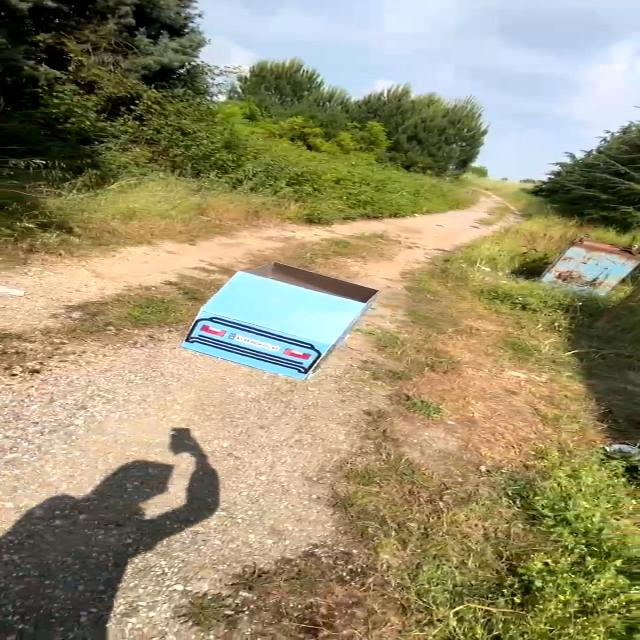blue_car: (164, 250, 386, 395)
